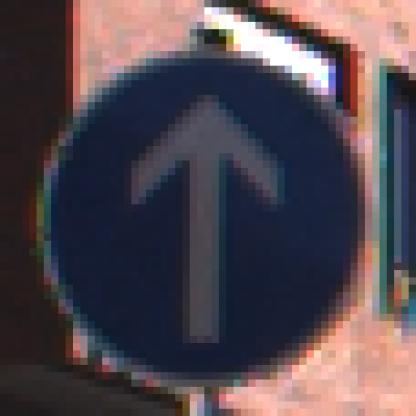AheadOnly: (45, 45, 380, 380)
